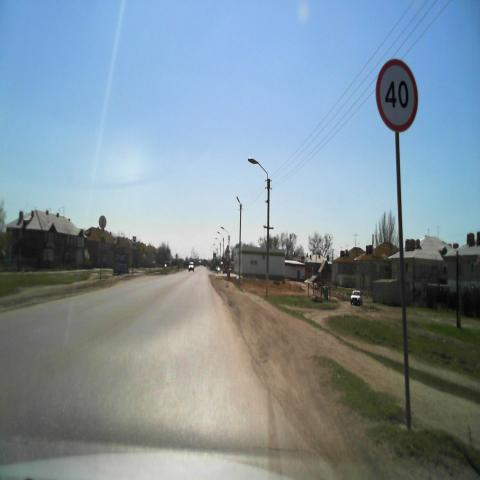3_24: (374, 55, 420, 133)
